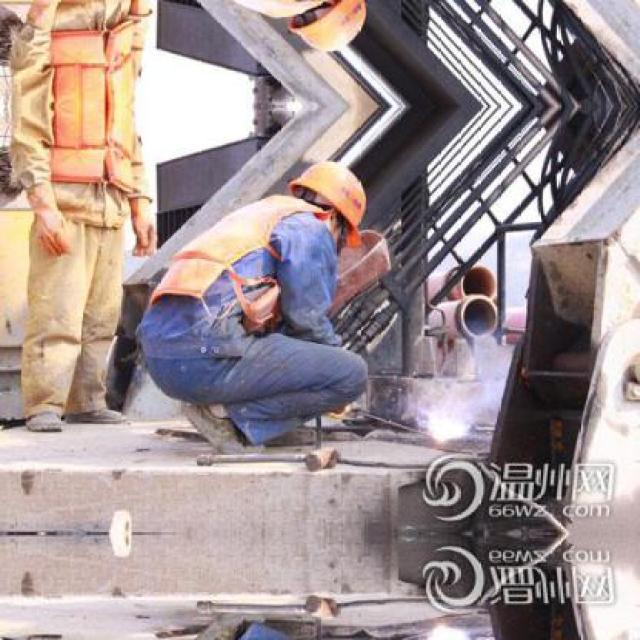helmet: (280, 155, 372, 238), (280, 0, 374, 59)
